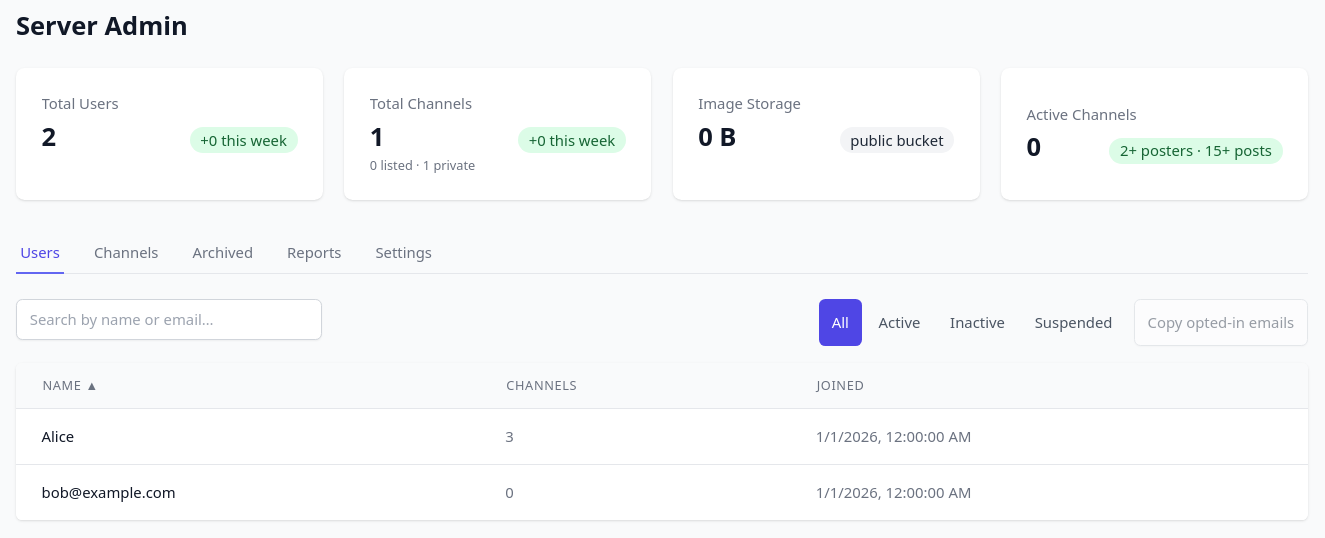
Test: AdminView › shows an empty state when no channel meets the active rule
Check: the text "Active Channels" is shown, box [1026,104,1137,124]
Step 1. Click the button with aria-label "Active Channels: 0. Show channels with real activity" → [1082, 114], box [1001,68,1308,200]
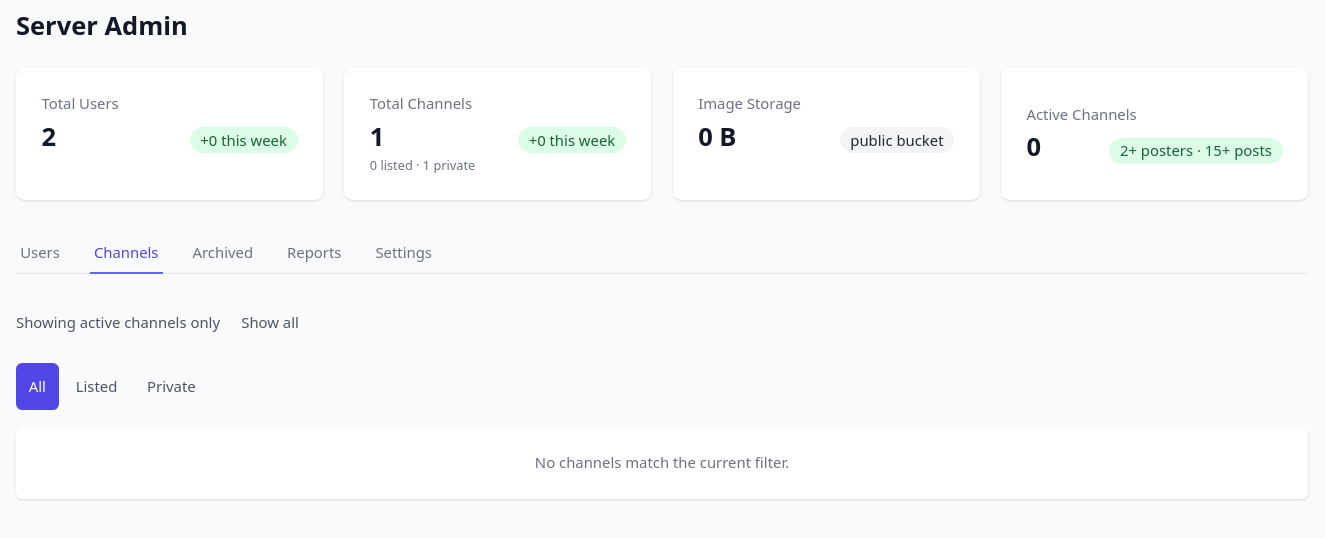
Check: the text "No channels match the current filter." is shown, box [535,452,789,472]
